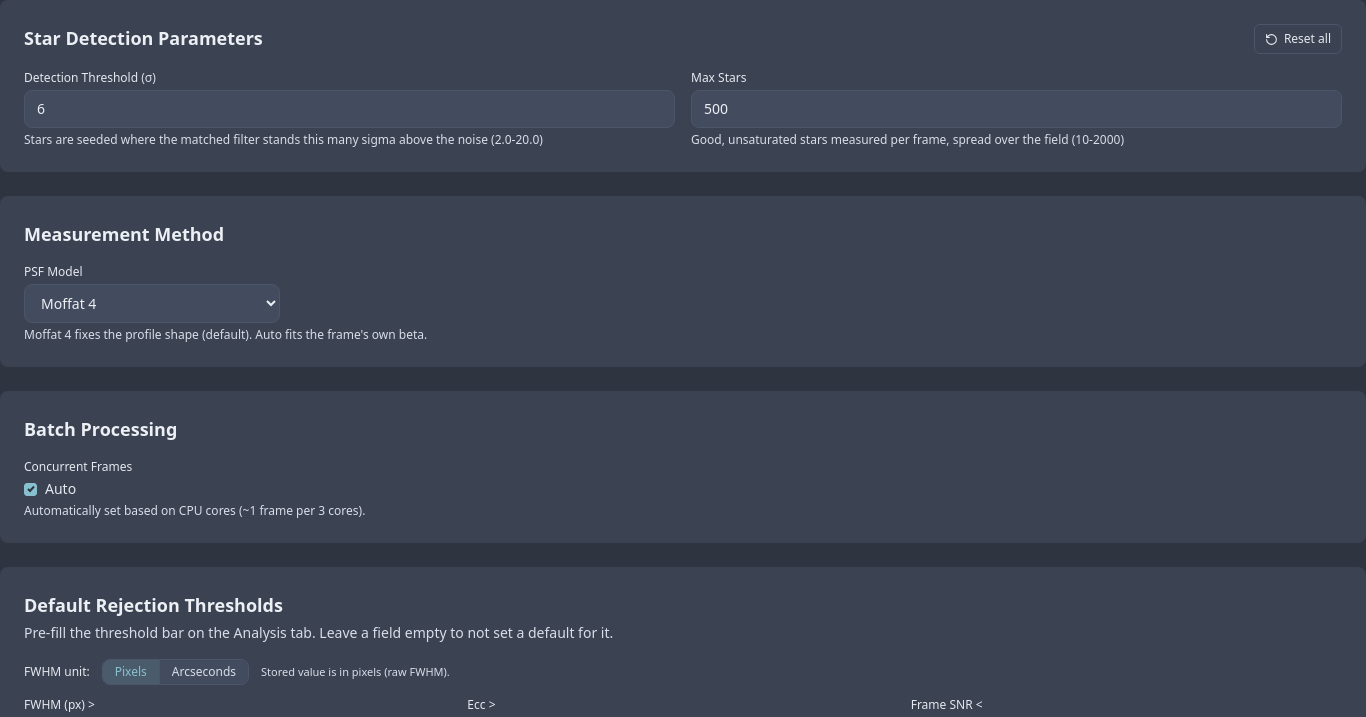
Test: AnalysisSettingsPanel › rejects an out-of-range value inline and never commits it
The image size is (1366, 717).
Replace the text in the number field showing "500" below "Max Stars" with "99999" at (1016, 109), box top-left (691, 90), bottom-right (1342, 128)
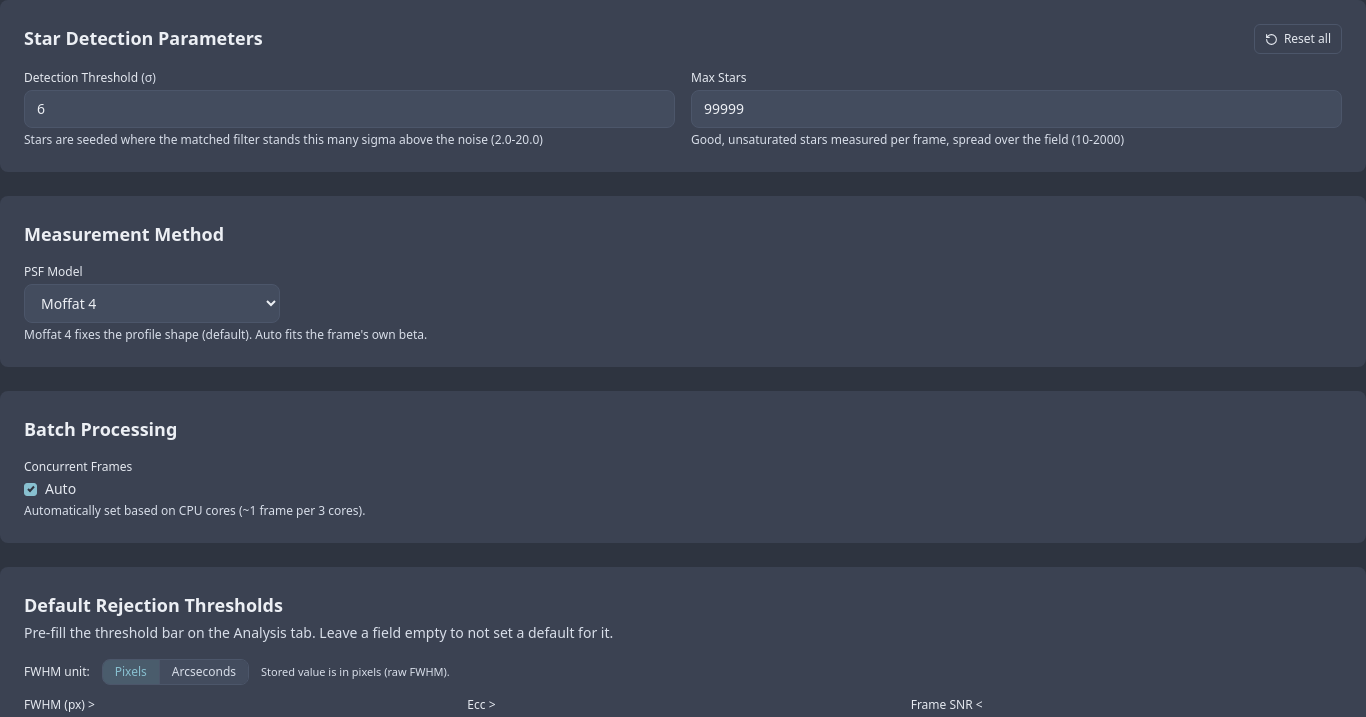
Leave the number field showing "500" below "Max Stars", box top-left (691, 90), bottom-right (1342, 128)
Wait 5000 ms
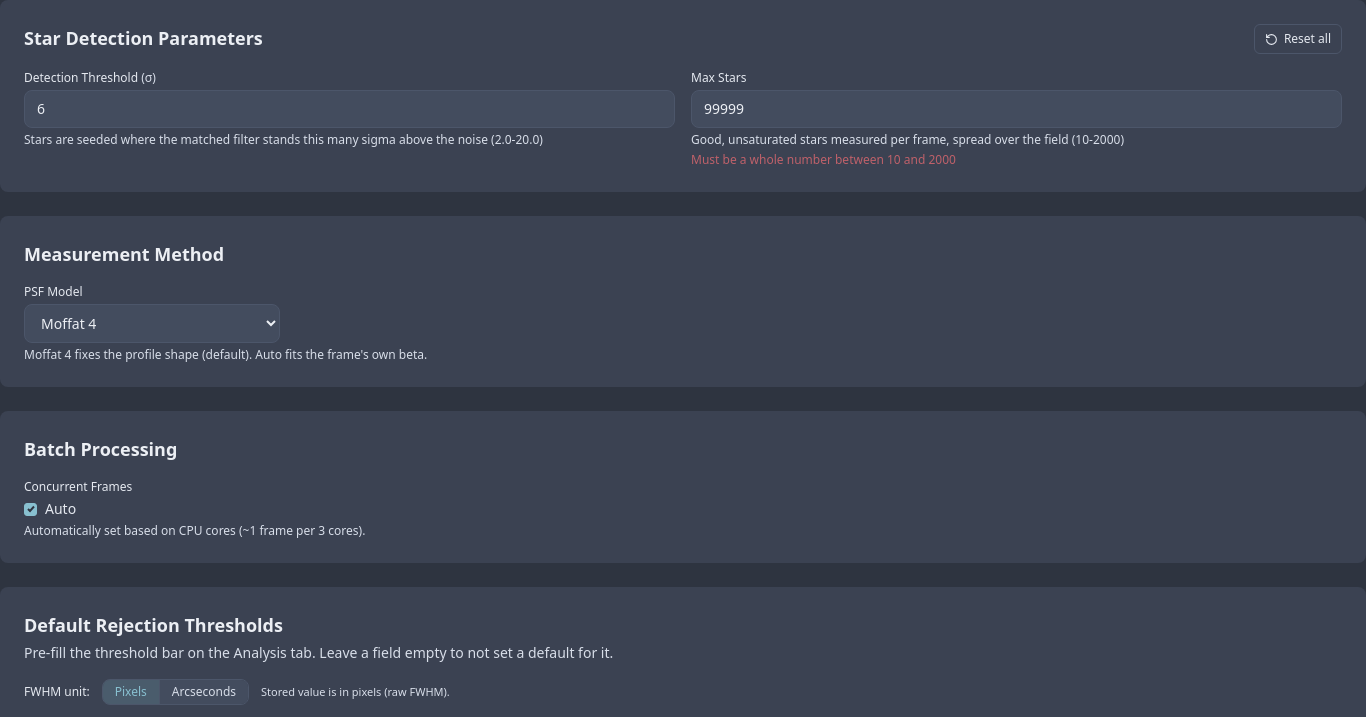
Now the text "Must be a whole number between 10 and 2000" is shown, box top-left (691, 151), bottom-right (956, 168)
